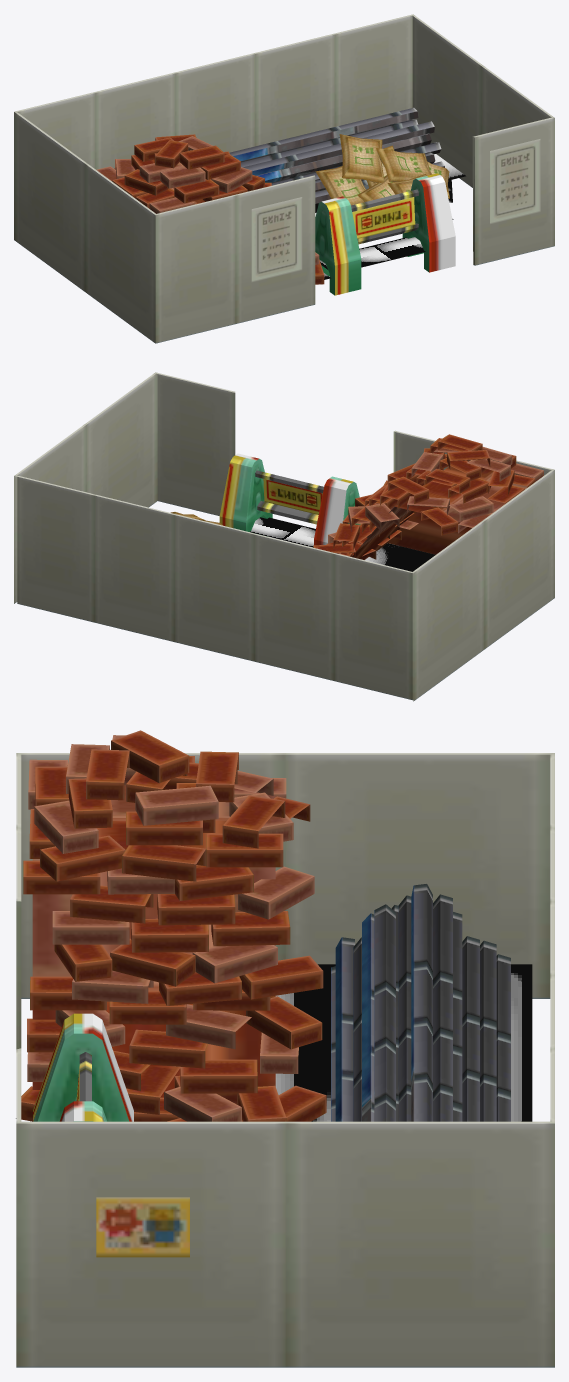
Rendered from before_department.obj.
The picture shows the model from 3 angles, top to bottom: view 1: azimuth 30°, elevation 25°; view 2: azimuth 150°, elevation 25°; view 3: azimuth 270°, elevation 25°; orthographic projection. The views are drawn at different scales.
Visible parts, largest first — view 1: vsn_mesh_2_dobj_rebuilding_1_63_mesh_2_dobj_rebuilding_1_63, vsn_mesh_1_dammy_mesh_1_dammy, vsn_mesh_0_closed_sign3_mesh_0_closed_sign3, vsn_mesh_3_pPlane10_mesh_3_pPlane10; view 2: vsn_mesh_2_dobj_rebuilding_1_63_mesh_2_dobj_rebuilding_1_63, vsn_mesh_1_dammy_mesh_1_dammy, vsn_mesh_0_closed_sign3_mesh_0_closed_sign3, vsn_mesh_3_pPlane10_mesh_3_pPlane10; view 3: vsn_mesh_2_dobj_rebuilding_1_63_mesh_2_dobj_rebuilding_1_63, vsn_mesh_1_dammy_mesh_1_dammy, vsn_mesh_0_closed_sign3_mesh_0_closed_sign3, vsn_mesh_3_pPlane10_mesh_3_pPlane10.
Boxes of the visible parts, bbox=[...] form: vsn_mesh_2_dobj_rebuilding_1_63_mesh_2_dobj_rebuilding_1_63: bbox=[14, 14, 554, 343]; vsn_mesh_1_dammy_mesh_1_dammy: bbox=[96, 134, 449, 284]; vsn_mesh_0_closed_sign3_mesh_0_closed_sign3: bbox=[315, 173, 455, 295]; vsn_mesh_3_pPlane10_mesh_3_pPlane10: bbox=[315, 154, 465, 284]; vsn_mesh_2_dobj_rebuilding_1_63_mesh_2_dobj_rebuilding_1_63: bbox=[14, 372, 554, 701]; vsn_mesh_1_dammy_mesh_1_dammy: bbox=[170, 434, 543, 559]; vsn_mesh_0_closed_sign3_mesh_0_closed_sign3: bbox=[219, 453, 360, 545]; vsn_mesh_3_pPlane10_mesh_3_pPlane10: bbox=[250, 517, 435, 571]; vsn_mesh_2_dobj_rebuilding_1_63_mesh_2_dobj_rebuilding_1_63: bbox=[16, 753, 554, 1367]; vsn_mesh_1_dammy_mesh_1_dammy: bbox=[21, 730, 326, 1121]; vsn_mesh_0_closed_sign3_mesh_0_closed_sign3: bbox=[33, 1013, 133, 1121]; vsn_mesh_3_pPlane10_mesh_3_pPlane10: bbox=[16, 964, 532, 1121].
Bounding box in the file's own units: 1.83 × 0.68 × 1.12.
Materials: 4 (4 with a texture image).
